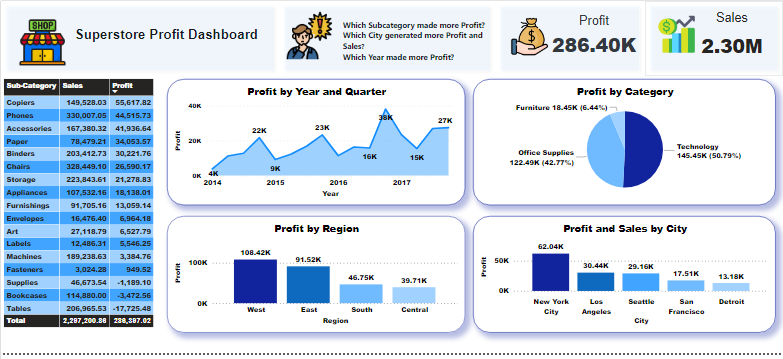

The page's visual inventory and layout, read from the dashboard file:
{"tool":"powerbi","page":{"name":"Dashboard","canvas":[1400,630],"ordinal":0},"visuals":[{"type":"columnChart","fields":{"Category":["Sample - Superstore.Region"],"Y":["Sum(Sample - Superstore.Profit)"]},"box":[297.2,384.9,533.5,209.5],"z":0},{"type":"textbox","box":[111.4,40.6,370.3,60.2],"z":1000},{"type":"pieChart","fields":{"Y":["Sum(Sample - Superstore.Profit)"],"Category":["Sample - Superstore.Category"]},"box":[845,139.6,542.5,225.6],"z":2000},{"type":"areaChart","fields":{"Category":["Sample - Superstore.Order Date.Variation.Date Hierarchy.Year","Sample - Superstore.Order Date.Variation.Date Hierarchy.Quarter","Sample - Superstore.Order Date.Variation.Date Hierarchy.Month","Sample - Superstore.Order Date.Variation.Date Hierarchy.Day"],"Y":["Sum(Sample - Superstore.Profit)"]},"box":[297.2,139.6,533.5,225.6],"z":3000},{"type":"textbox","box":[606.9,10.7,300.8,123.5],"z":4000},{"type":"card","title":"Profit","fields":{"Values":["Sum(Sample - Superstore.Profit)"]},"box":[958.9,15.1,201.7,100.9],"z":5000},{"type":"pivotTable","fields":{"Rows":["Sample - Superstore.Sub-Category"],"Values":["Sum(Sample - Superstore.Sales)","Sum(Sample - Superstore.Profit)"]},"box":[0,134.3,284.7,460.1],"z":6000},{"type":"shape","box":[497.7,0,386.7,134.3],"z":7000},{"type":"shape","box":[1153.1,0,246.9,134],"z":8000},{"type":"card","title":"Sales","fields":{"Values":["Sum(Sample - Superstore.Sales)"]},"box":[1217.8,16.6,182.2,100.9],"z":9000},{"type":"image","box":[1153.1,16.6,112.9,87.3],"z":10000},{"type":"shape","box":[885.2,0,268,134],"z":11000},{"type":"image","box":[481.6,14.3,139.6,96.7],"z":12000},{"type":"image","box":[907.7,22.6,76.8,81.3],"z":13000},{"type":"shape","box":[0,0,497.7,134.3],"z":14000},{"type":"image","box":[23.3,25.1,102,98.5],"z":15000},{"type":"columnChart","fields":{"Category":["Sample - Superstore.City"],"Y":["Sum(Sample - Superstore.Profit)"]},"box":[845,384.9,542.5,209.5],"z":16000}]}

Visuals, with their boxes in screenshot pixels (x1, y1, x2, y2), scaled from the page's 1400x630 canvas onto the 783x359 screenshot:
columnChart - Sample - Superstore.Region x Sum(Sample - Superstore.Profit): x1=166 y1=219 x2=465 y2=339
textbox: x1=62 y1=23 x2=269 y2=57
pieChart - Sum(Sample - Superstore.Profit) x Sample - Superstore.Category: x1=473 y1=80 x2=776 y2=208
areaChart - Sample - Superstore.Order Date.Variation.Date Hierarchy.Year x Sample - Superstore.Order Date.Variation.Date Hierarchy.Quarter: x1=166 y1=80 x2=465 y2=208
textbox: x1=339 y1=6 x2=508 y2=76
"Profit" card: x1=536 y1=9 x2=649 y2=66
pivotTable - Sample - Superstore.Sub-Category x Sum(Sample - Superstore.Sales): x1=0 y1=77 x2=159 y2=339
shape: x1=278 y1=0 x2=495 y2=77
shape: x1=645 y1=0 x2=782 y2=76
"Sales" card: x1=681 y1=9 x2=782 y2=67
image: x1=645 y1=9 x2=708 y2=59
shape: x1=495 y1=0 x2=645 y2=76
image: x1=269 y1=8 x2=347 y2=63
image: x1=508 y1=13 x2=551 y2=59
shape: x1=0 y1=0 x2=278 y2=77
image: x1=13 y1=14 x2=70 y2=70
columnChart - Sample - Superstore.City x Sum(Sample - Superstore.Profit): x1=473 y1=219 x2=776 y2=339
